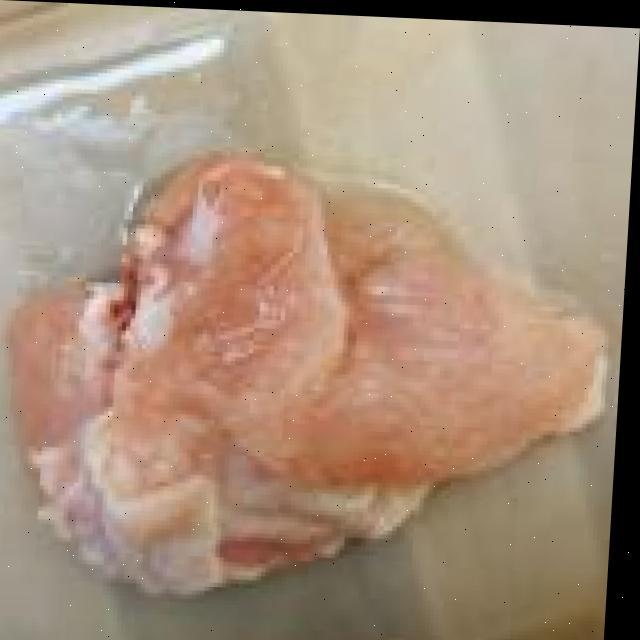breast: (32, 138, 616, 590)
